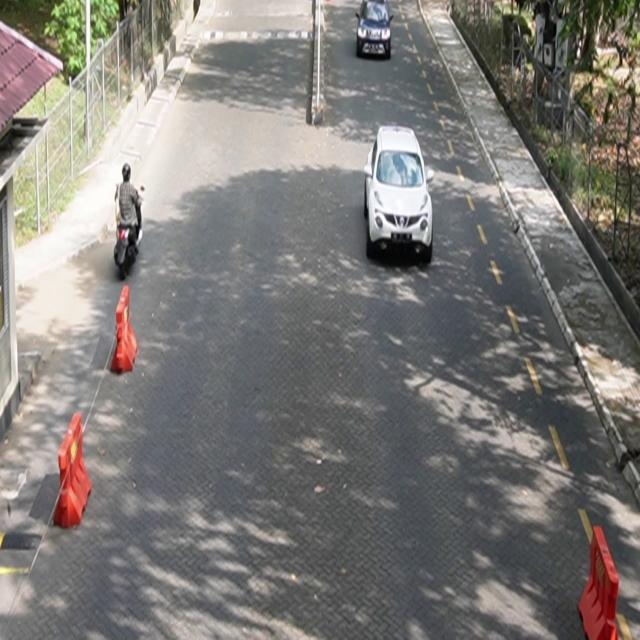car: (365, 124, 436, 264), (355, 1, 394, 60)
